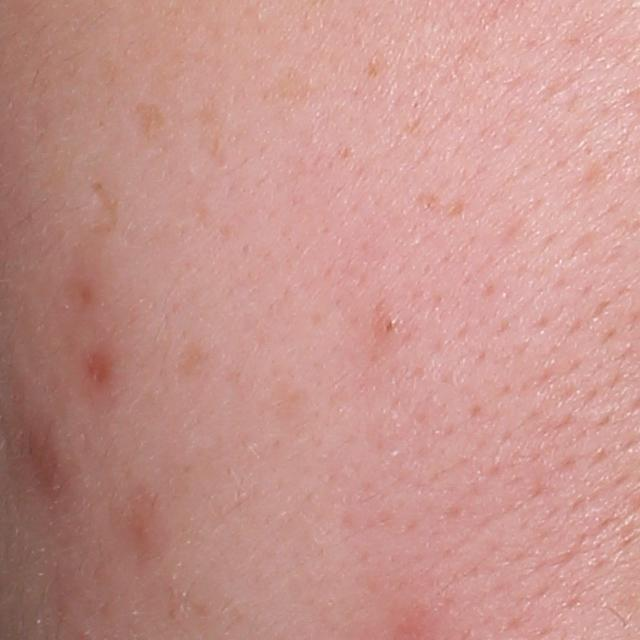comedo: (374, 307, 407, 342)
melasma: (190, 98, 229, 168), (259, 67, 322, 105), (91, 180, 126, 239), (130, 99, 165, 138), (363, 50, 390, 80)
